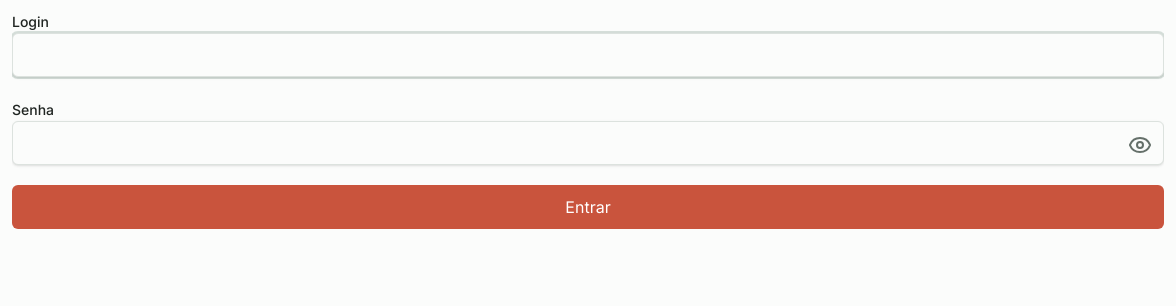
Test case: LoginForm › shows a generic message when the credentials are rejected
Step 1. Type "ana" into the field labelled "Login" → (588,55), box [12,33,1164,77]
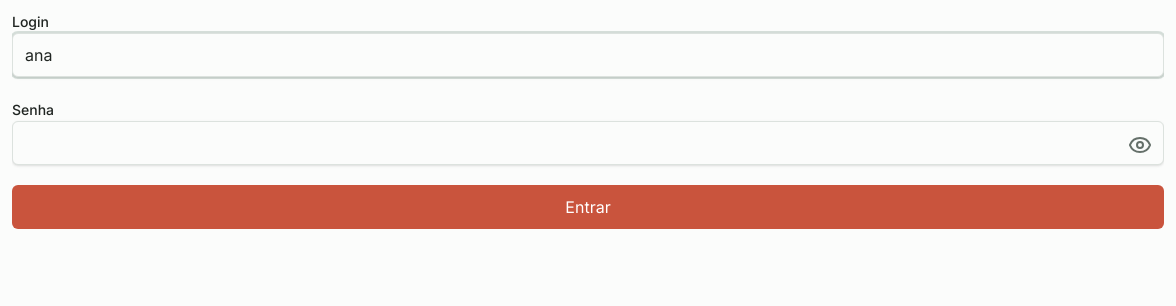
Step 2. Type "wrong-password" into the password field labelled "Senha" → (588,143), box [12,121,1164,165]
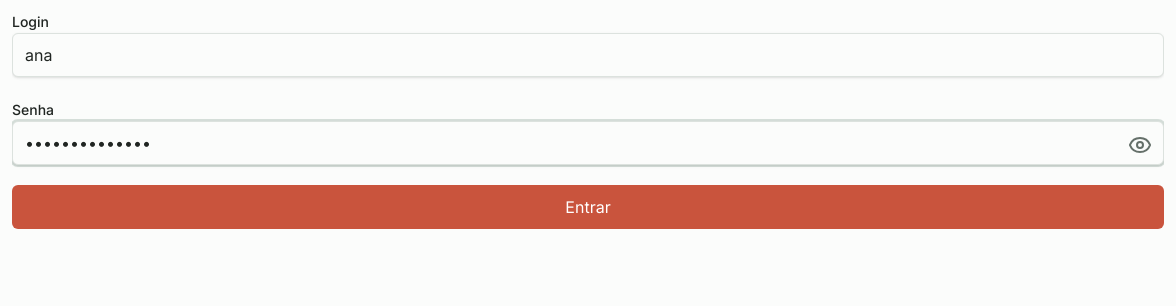
Step 3. Click the button "Entrar" → (588,207), box [12,185,1164,229]
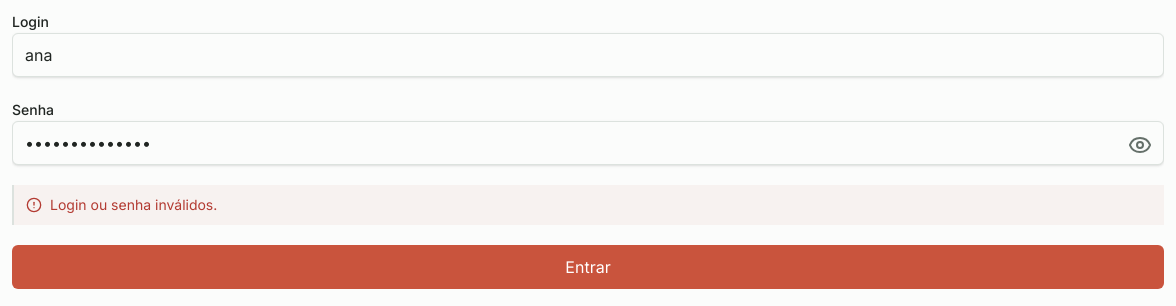
Expected: the message reads "Login ou senha inválidos.", [50,196,217,213]
